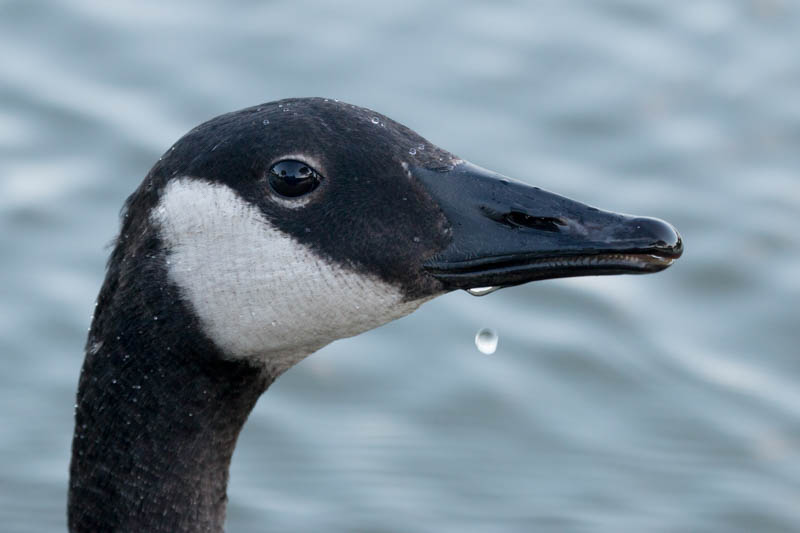goose-head: (104, 98, 683, 390)
